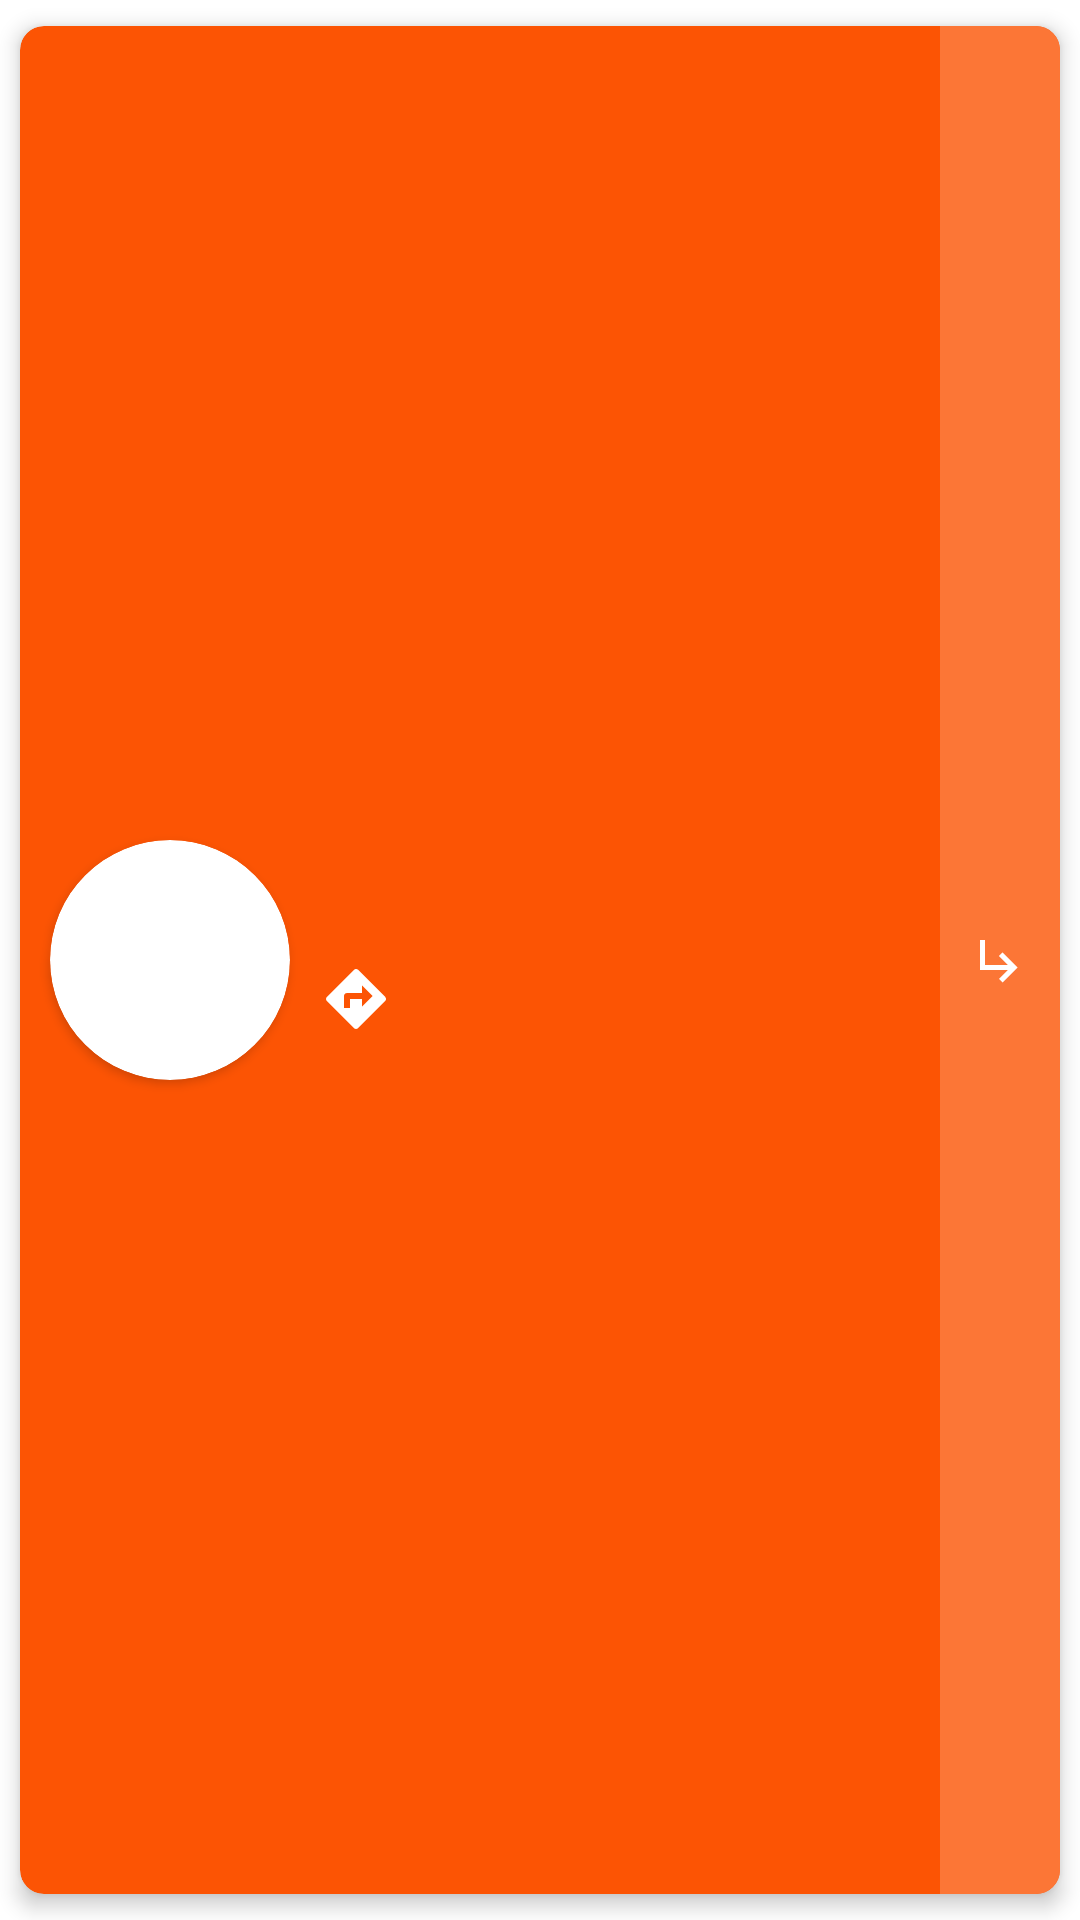

Screen size 1080x1920. Icon name, then its center in pixels as [x,y]:
arrow right: [999,961]
direction: [356,999]
